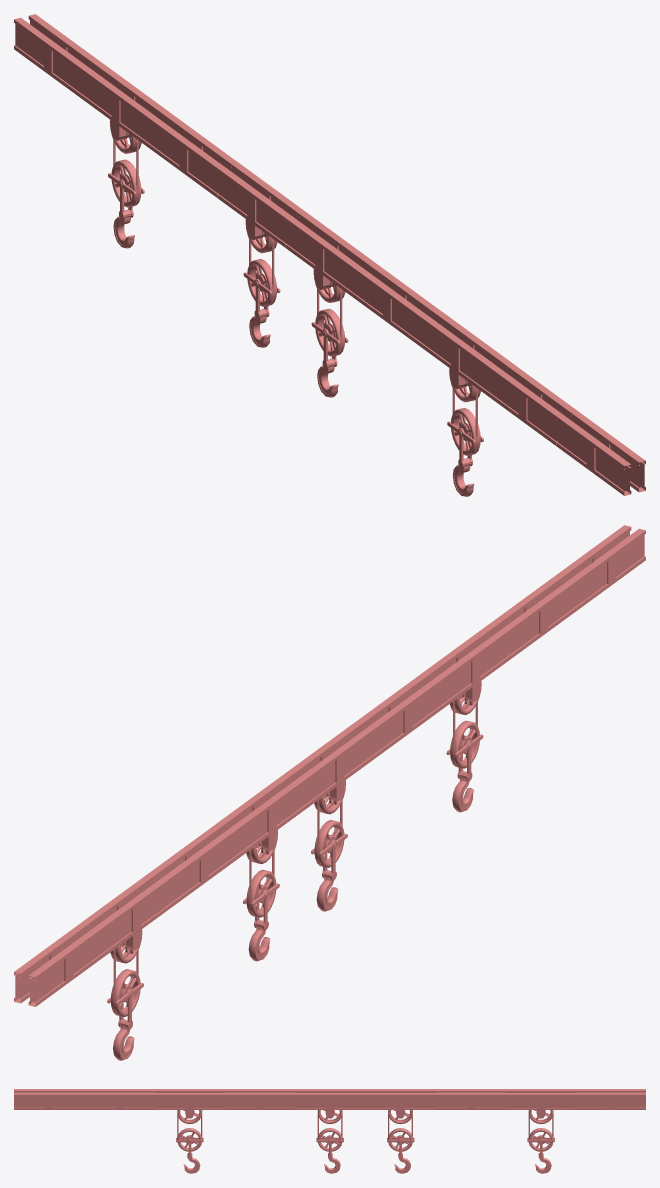
Rendered from Generator_Beam_1.fbx.
3 views of the same model, one above another, from view 1: azimuth 30°, elevation 25°; view 2: azimuth 150°, elevation 25°; view 3: azimuth 270°, elevation 25° (orthographic). The views are drawn at different scales.
Visible parts, largest first — view 1: Generator_Beam_1; view 2: Generator_Beam_1; view 3: Generator_Beam_1.
Boxes of the visible parts, bbox=[...] form: Generator_Beam_1: bbox=[14, 14, 645, 496]; Generator_Beam_1: bbox=[14, 525, 645, 1060]; Generator_Beam_1: bbox=[14, 1089, 645, 1173].
Bounding box in the file's own units: 30.75 × 214 × 1500.
